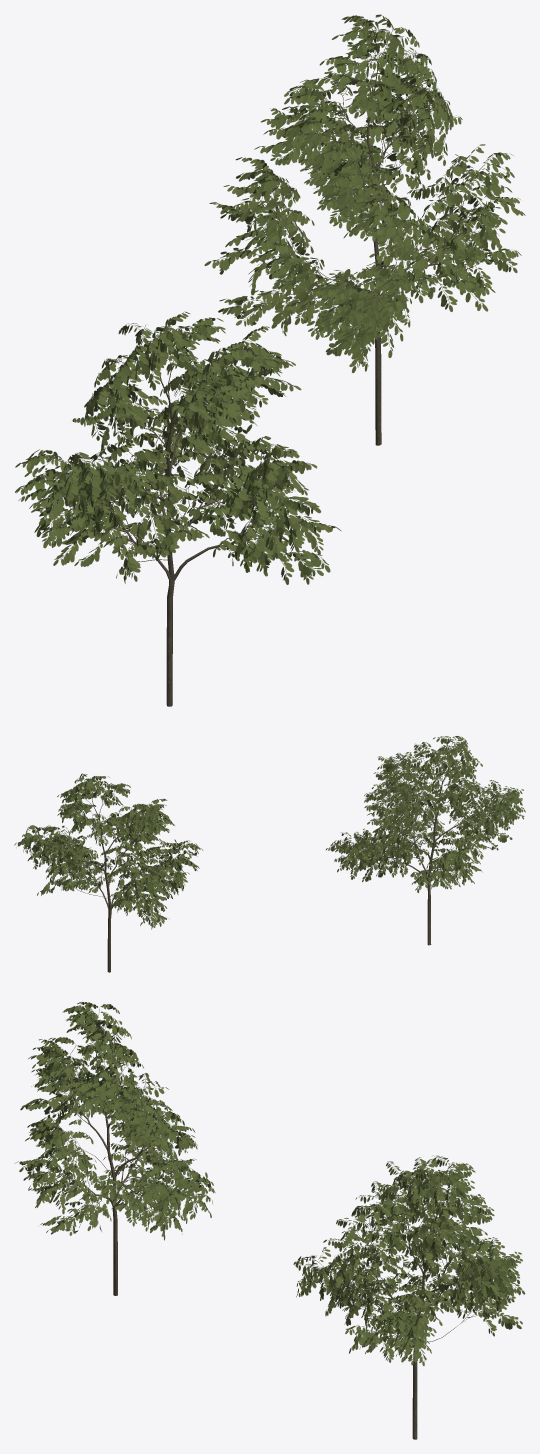
The model's file is Lesson01_Trees_v003.glb.
3 renders of one model, top to bottom at view 1: azimuth 30°, elevation 25°; view 2: azimuth 150°, elevation 25°; view 3: azimuth 270°, elevation 25°, orthographic. The views are drawn at different scales.
Parts seen in each view (by area): view 1: bq_Tree_Robinia-pseudoacacia_E_summer.001, bq_Tree_Robinia-pseudoacacia_E_summer; view 2: bq_Tree_Robinia-pseudoacacia_E_summer, bq_Tree_Robinia-pseudoacacia_E_summer.001; view 3: bq_Tree_Robinia-pseudoacacia_E_summer.001, bq_Tree_Robinia-pseudoacacia_E_summer.
Part boxes in pixels (left/top/right/bottom): bq_Tree_Robinia-pseudoacacia_E_summer.001: left=204, top=14, right=525, bottom=445; bq_Tree_Robinia-pseudoacacia_E_summer: left=15, top=311, right=341, bottom=706; bq_Tree_Robinia-pseudoacacia_E_summer: left=326, top=736, right=525, bottom=945; bq_Tree_Robinia-pseudoacacia_E_summer.001: left=14, top=773, right=203, bottom=972; bq_Tree_Robinia-pseudoacacia_E_summer.001: left=293, top=1155, right=525, bottom=1439; bq_Tree_Robinia-pseudoacacia_E_summer: left=15, top=1002, right=215, bottom=1295.
Bounding box in the file's own units: 22.2 × 12.01 × 19.73.
Materials: 2 (2 with a texture image).
